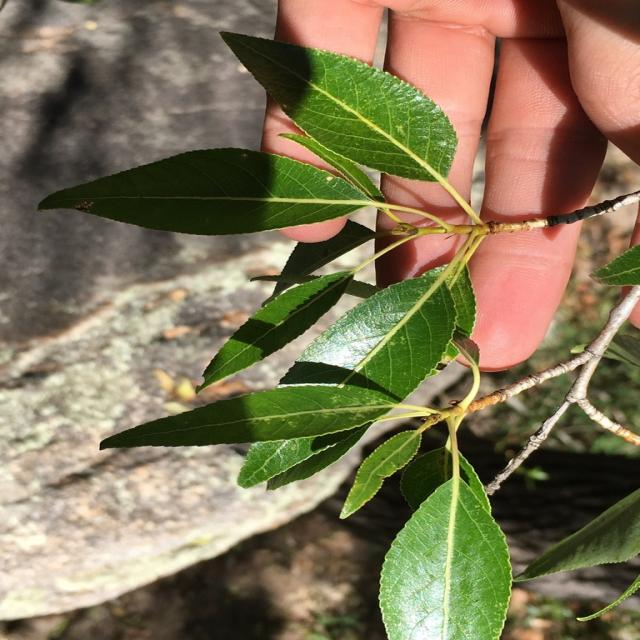Populus angustifolia: (25, 25, 640, 640)
